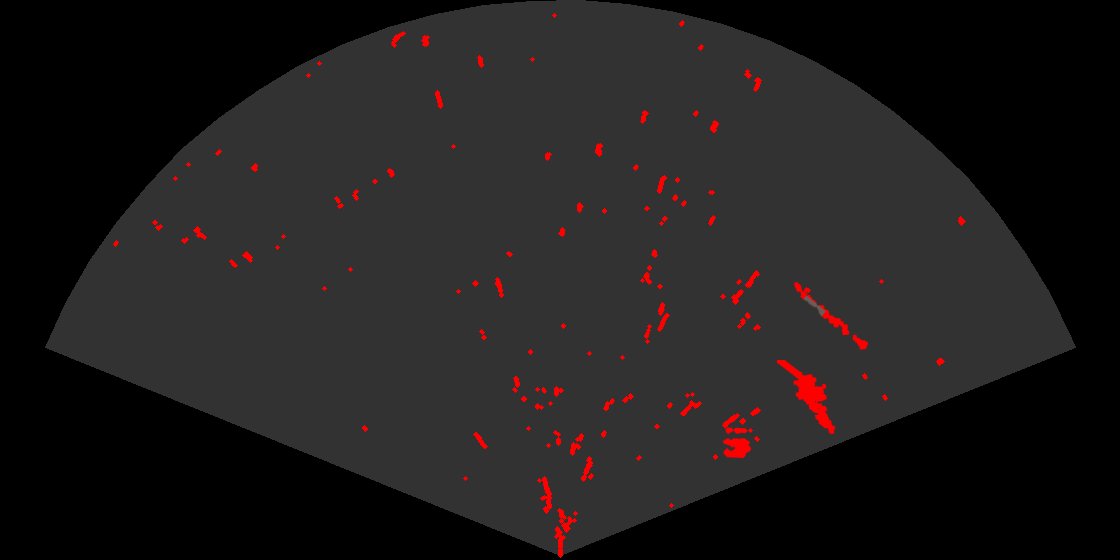ball: (721, 426, 753, 460)
chain: (793, 280, 870, 351)
frogman: (777, 360, 837, 436)
